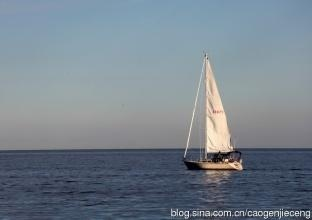fanchuan: (179, 48, 249, 170)
